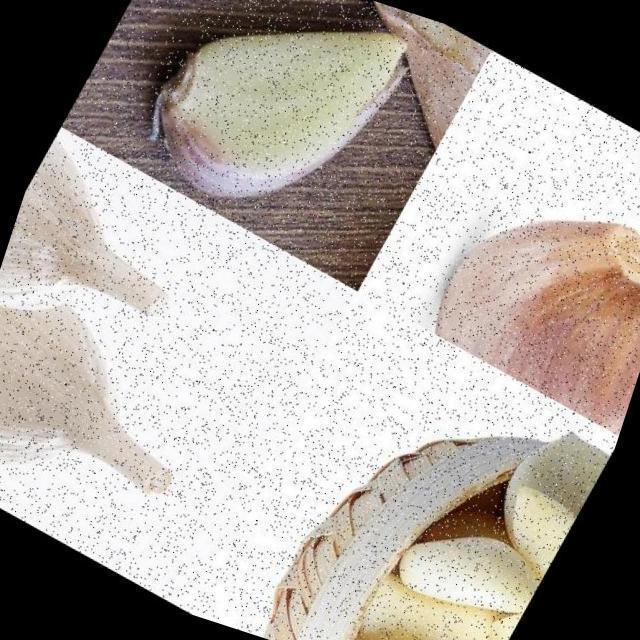garlic: (111, 0, 427, 253), (335, 363, 620, 640), (0, 260, 244, 564), (404, 140, 640, 436), (0, 124, 231, 409), (309, 0, 493, 168)
